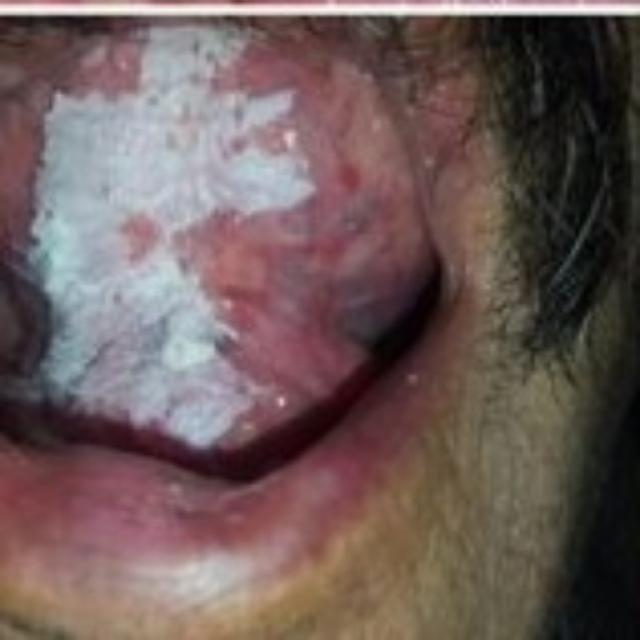leukoplakia-like-detection: (5, 16, 345, 446)
processing_area: (2, 16, 437, 441)
